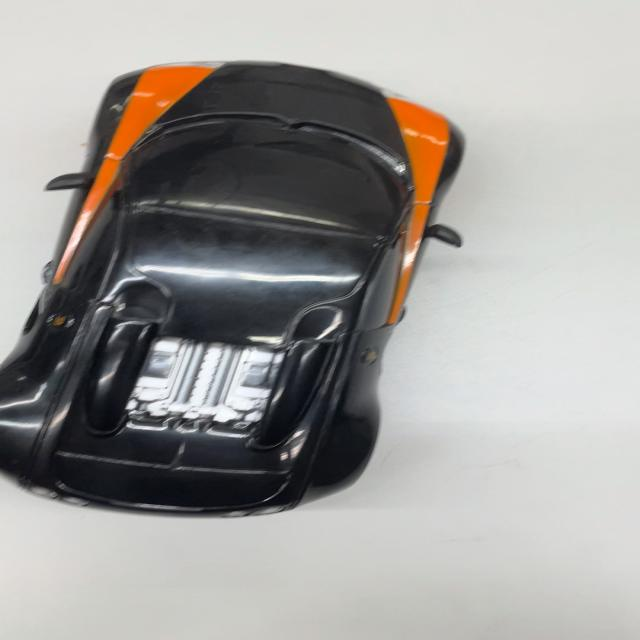vehicle_body: (0, 56, 474, 516)
